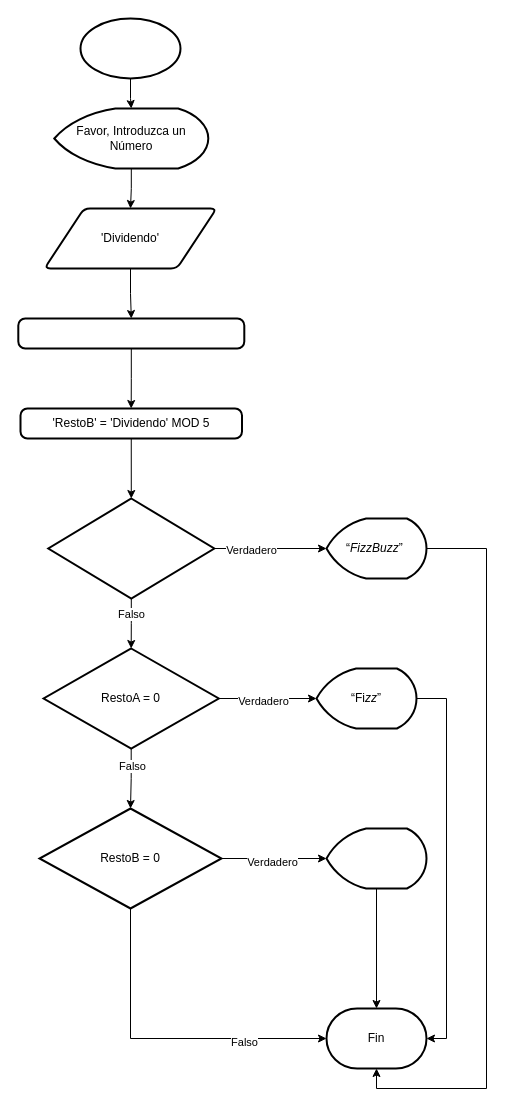
Some shapes in this 512 by 1114 pixel diagram are drawn without their labels. Each missing label, with the centre of its shape:
'RestoA' = 'Dividendo' MOD 3: pixel 131 333
Inicio: pixel 130 48
RestoA AND Resto B = 0: pixel 131 548
“ Buzz ”: pixel 376 858
